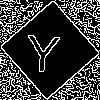Y: (25, 25, 62, 73)
